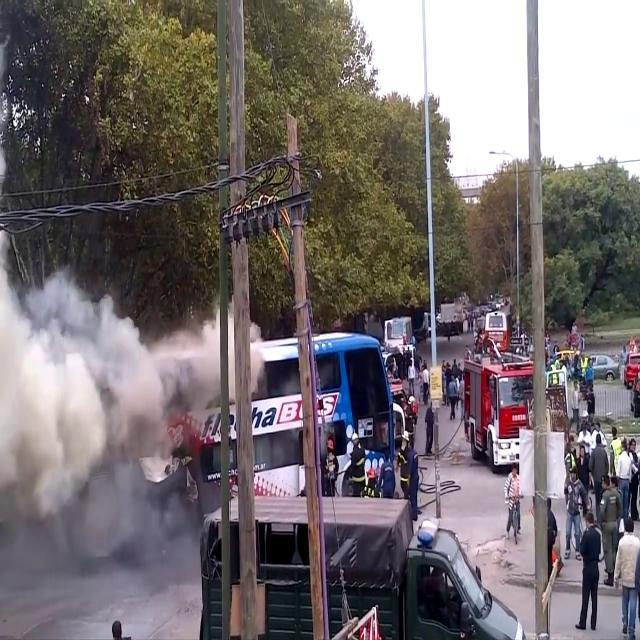Smoke: (0, 107, 182, 562)
